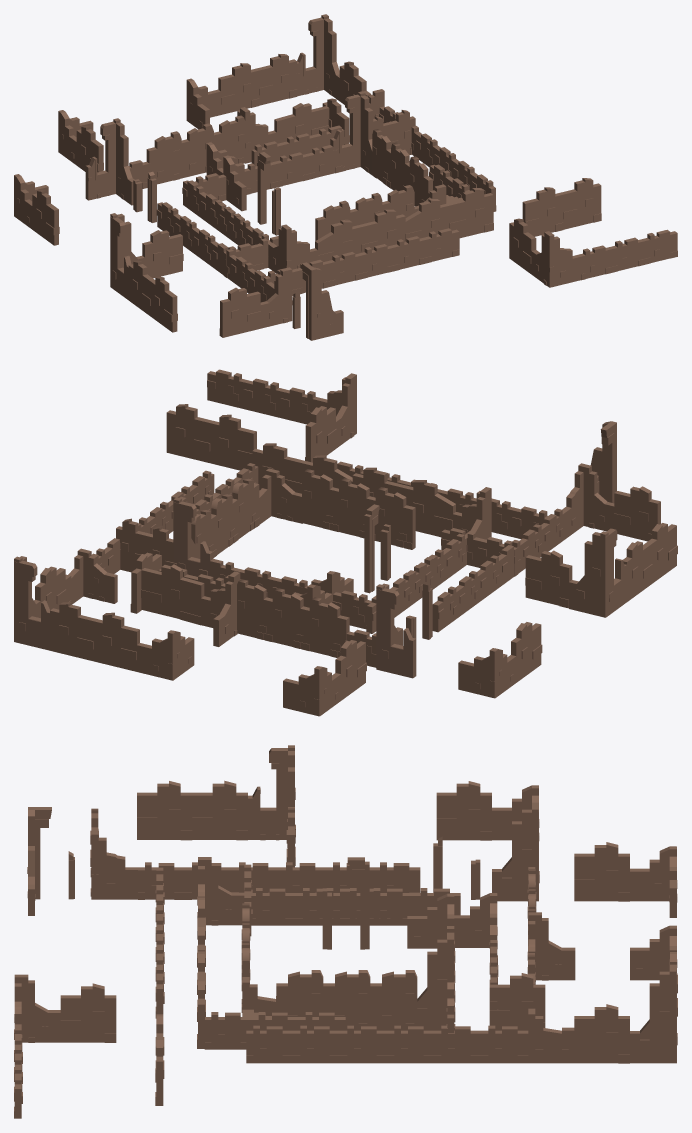
Rendered from Dungeon 2.fbx.
The picture shows the model from 3 angles, top to bottom: view 1: azimuth 30°, elevation 25°; view 2: azimuth 150°, elevation 25°; view 3: azimuth 270°, elevation 25°; orthographic projection. The views are drawn at different scales.
Parts seen in each view (by area): view 1: Parede meio.020, Parede meio.017, Parede meio.024, Parede meio.010, Parede meio.003, Parede meio.016, Parede meio.015, casa quina janela.004, casa quina janela.002, Parede meio.023, Parede meio.021, parede quina porta (+30 smaller); view 2: Parede meio.024, Parede meio.002, Parede meio.020, Parede meio.010, Parede meio.003, Parede meio.016, casa quina janela.003, Parede meio.015, Parede meio.021, Parede meio.027, Parede meio.006, casa quina janela.004 (+31 smaller); view 3: Parede meio.018, Parede meio.010, Parede meio.021, Parede meio.006, Parede meio.011, casa quina janela.002, Parede meio.012, Parede meio.013, Parede meio.019, Parede meio.014, Parede meio.007, casa quina janela.004 (+22 smaller).
Boxes of the visible parts, x1,y1,x2,y2 form: Parede meio.020: (315,188,493,261); Parede meio.017: (266,228,459,295); Parede meio.024: (146,115,245,184); Parede meio.010: (156,202,273,302); Parede meio.003: (218,54,297,114); Parede meio.016: (522,178,601,236); Parede meio.015: (579,229,677,280); casa quina janela.004: (85,118,134,205); casa quina janela.002: (296,14,339,100); Parede meio.023: (246,145,342,194); Parede meio.021: (372,129,432,206); parede quina porta: (292,262,343,340); Parede meio.024: (237,579,349,657); Parede meio.002: (302,469,415,549); Parede meio.020: (252,443,455,537); Parede meio.010: (432,508,565,632); Parede meio.003: (50,602,139,671); Parede meio.016: (166,404,256,470); casa quina janela.003: (569,528,626,617); Parede meio.015: (207,369,319,424); Parede meio.021: (191,478,259,558); Parede meio.027: (141,564,204,625); Parede meio.006: (366,533,467,633); casa quina janela.004: (376,583,416,678); Parede meio.018: (246,1025,528,1063); Parede meio.010: (138,862,420,899); Parede meio.021: (276,970,417,1030); Parede meio.006: (251,888,460,925); Parede meio.011: (137,780,247,840); casa quina janela.002: (630,964,677,1063); Parede meio.012: (574,842,629,901); Parede meio.013: (436,781,491,840); Parede meio.019: (204,1012,345,1049); Parede meio.014: (60,983,116,1042); Parede meio.007: (574,1004,629,1063); casa quina janela.004: (492,802,539,901).
Size of the model in its own units: 84.71 by 12.95 by 85.18.
